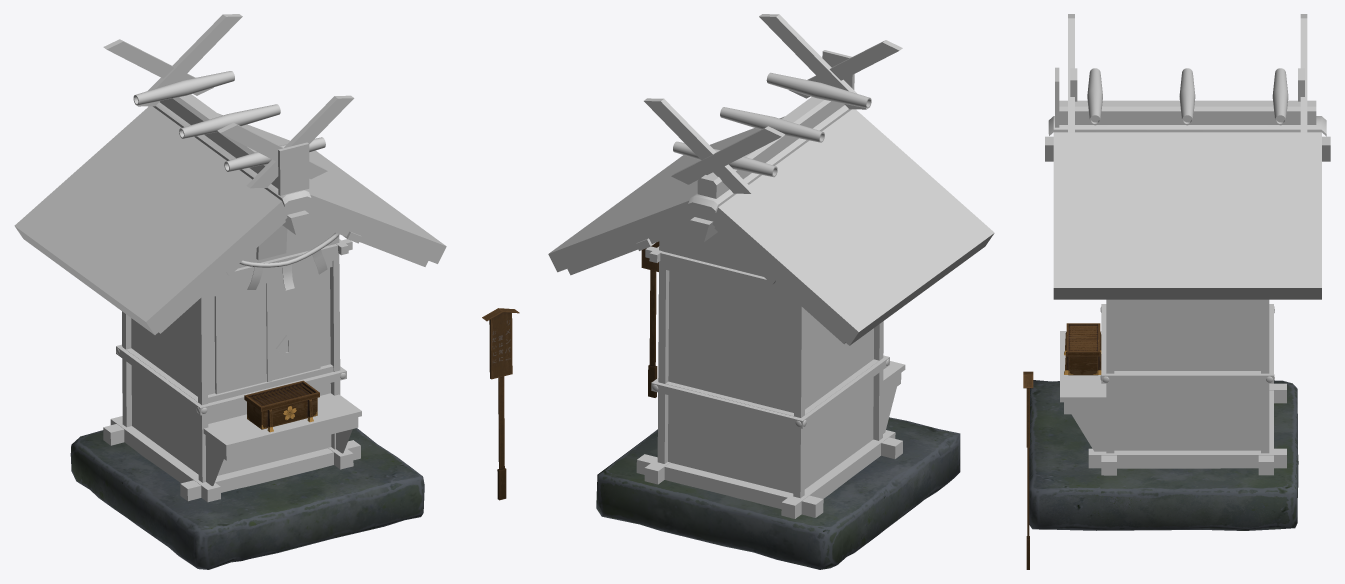
The picture shows the model from 3 angles, left to right: view 1: azimuth 30°, elevation 25°; view 2: azimuth 150°, elevation 25°; view 3: azimuth 270°, elevation 25°; orthographic projection. The views are drawn at different scales.
Visible parts, largest first — view 1: SM_Altars, SM_Stone_slab, SM_box, SM_Sign; view 2: SM_Altars, SM_Stone_slab, SM_Sign; view 3: SM_Altars, SM_Stone_slab, SM_box, SM_Sign.
Part boxes in pixels (box(x1,y1,x2,y2)): SM_Altars: box(14, 14, 446, 502); SM_Stone_slab: box(70, 428, 424, 569); SM_box: box(244, 380, 319, 432); SM_Sign: box(482, 308, 519, 500); SM_Altars: box(548, 14, 994, 518); SM_Stone_slab: box(596, 417, 960, 569); SM_Sign: box(641, 241, 659, 397); SM_Altars: box(1045, 14, 1330, 475); SM_Stone_slab: box(1029, 380, 1298, 530); SM_box: box(1064, 323, 1101, 375); SM_Sign: box(1023, 371, 1033, 569).
Size of the model in its own units: 3.15 by 3.55 by 2.29.
